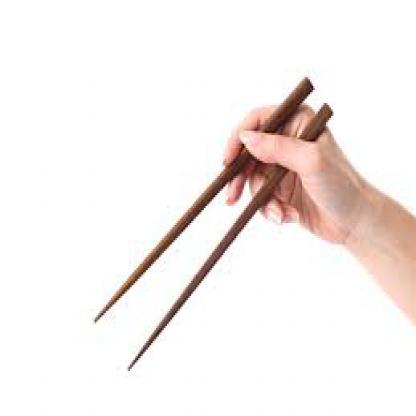chopstick: (127, 103, 334, 371), (93, 75, 313, 322)
